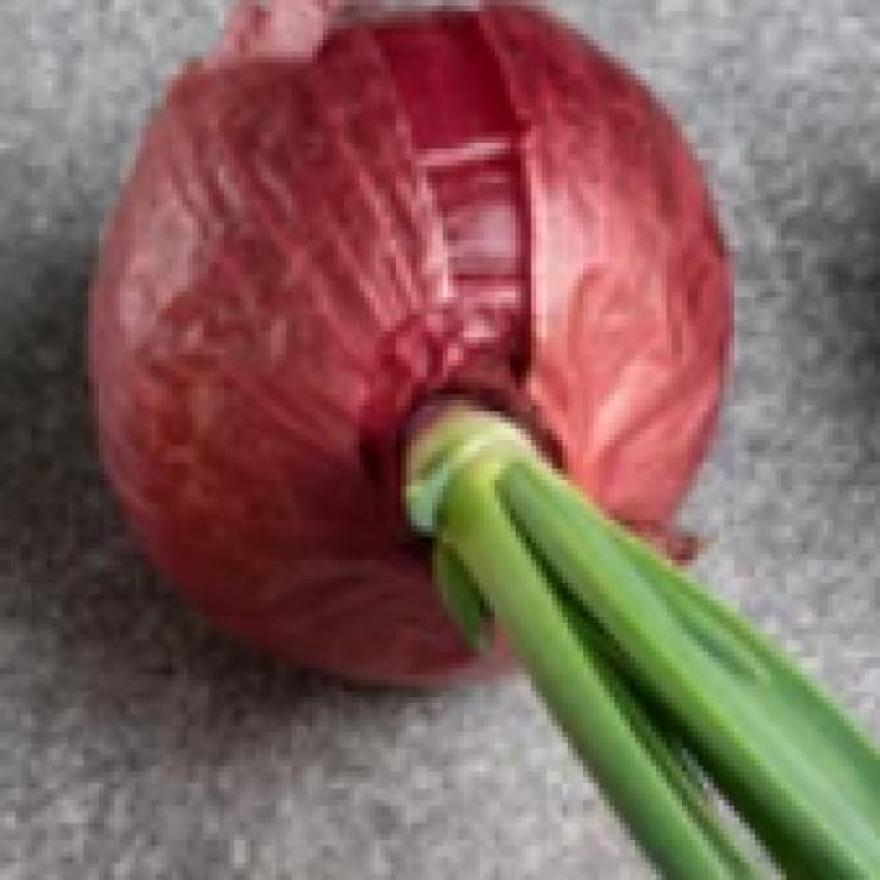Sprouted: (406, 423, 776, 806)
